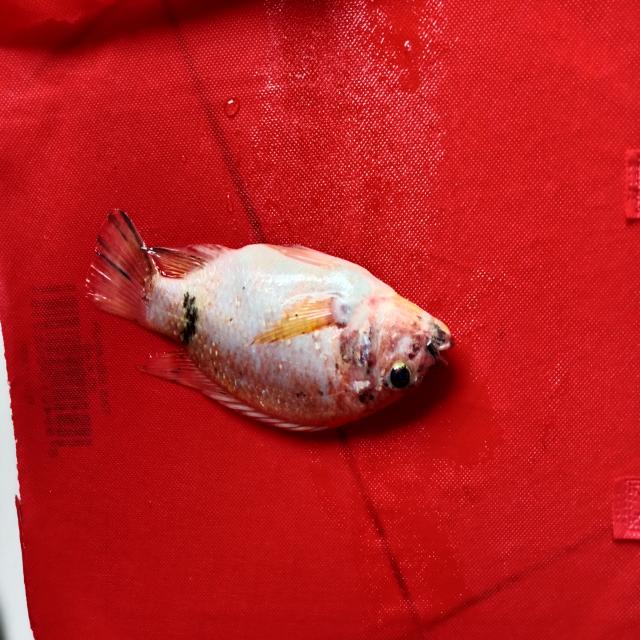ikan: (72, 185, 468, 452)
